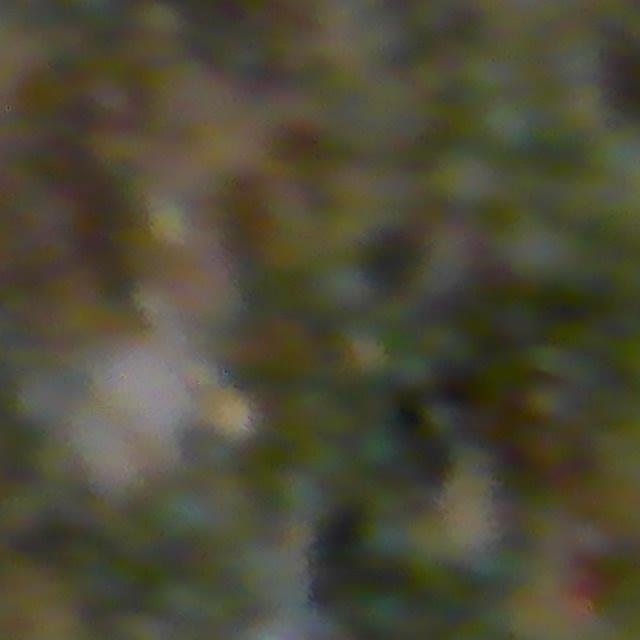SeaGrape: (432, 146, 506, 214)
